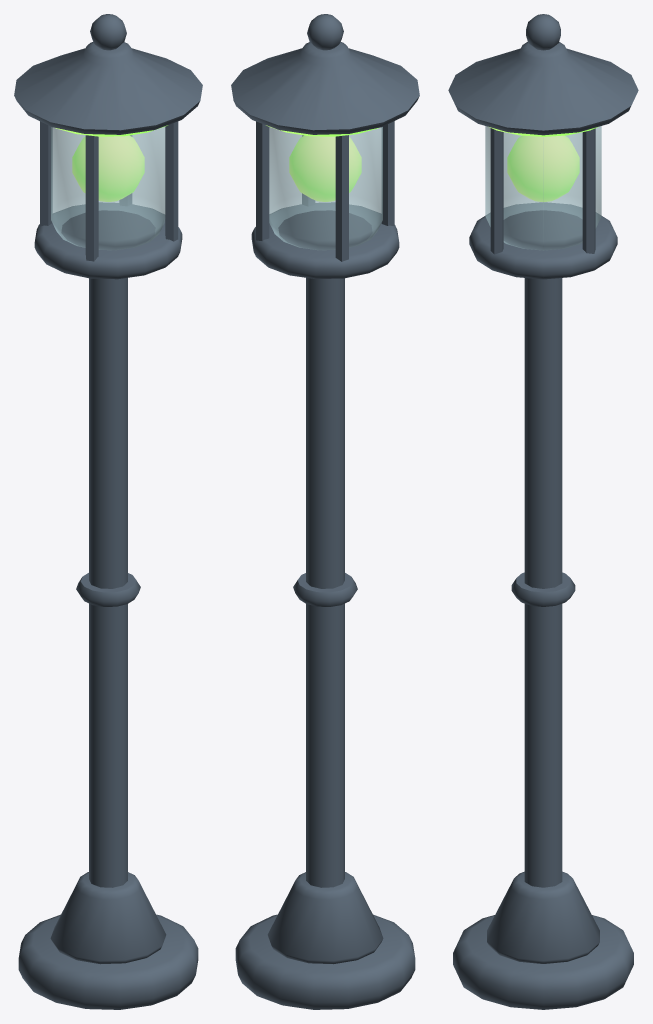
The model's file is Farol.fbx.
The picture shows the model from 3 angles, left to right: view 1: azimuth 30°, elevation 25°; view 2: azimuth 150°, elevation 25°; view 3: azimuth 270°, elevation 25°; orthographic projection.
Visible parts, largest first — view 1: Farol_Poste, Farol_Globo_Vidrio, Farol_Foco_Neon; view 2: Farol_Poste, Farol_Globo_Vidrio, Farol_Foco_Neon; view 3: Farol_Poste, Farol_Globo_Vidrio, Farol_Foco_Neon.
Boxes of the visible parts, x1,y1,x2,y2 form: Farol_Poste: [14, 14, 202, 1009]; Farol_Globo_Vidrio: [51, 127, 165, 250]; Farol_Foco_Neon: [55, 125, 167, 201]; Farol_Poste: [231, 14, 419, 1009]; Farol_Globo_Vidrio: [269, 127, 382, 250]; Farol_Foco_Neon: [266, 125, 378, 201]; Farol_Poste: [448, 14, 638, 1009]; Farol_Globo_Vidrio: [485, 126, 601, 250]; Farol_Foco_Neon: [488, 126, 598, 202].
Bounding box in the file's own units: 1.64 × 9.14 × 1.64.
